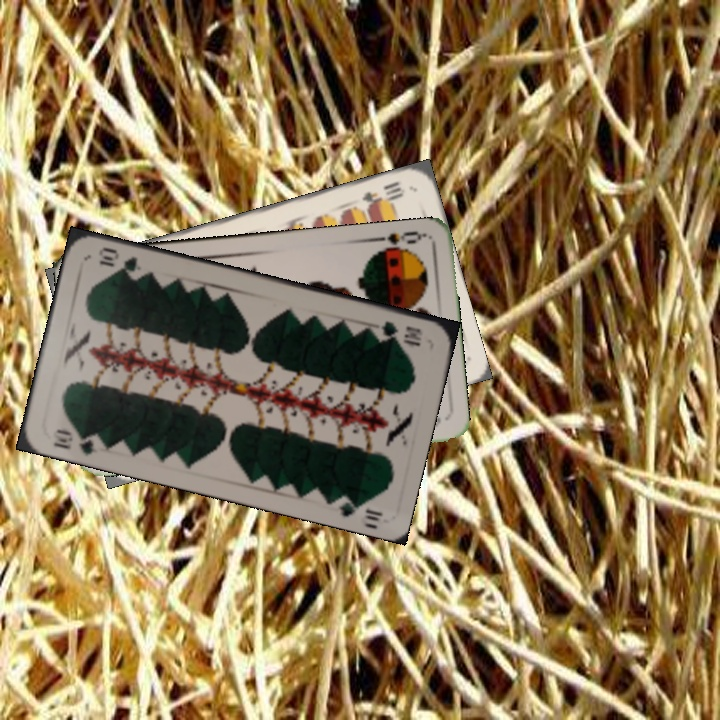E10: (358, 177, 408, 212)
G10: (48, 425, 105, 458), (377, 317, 424, 348)
SO: (367, 227, 426, 257)
